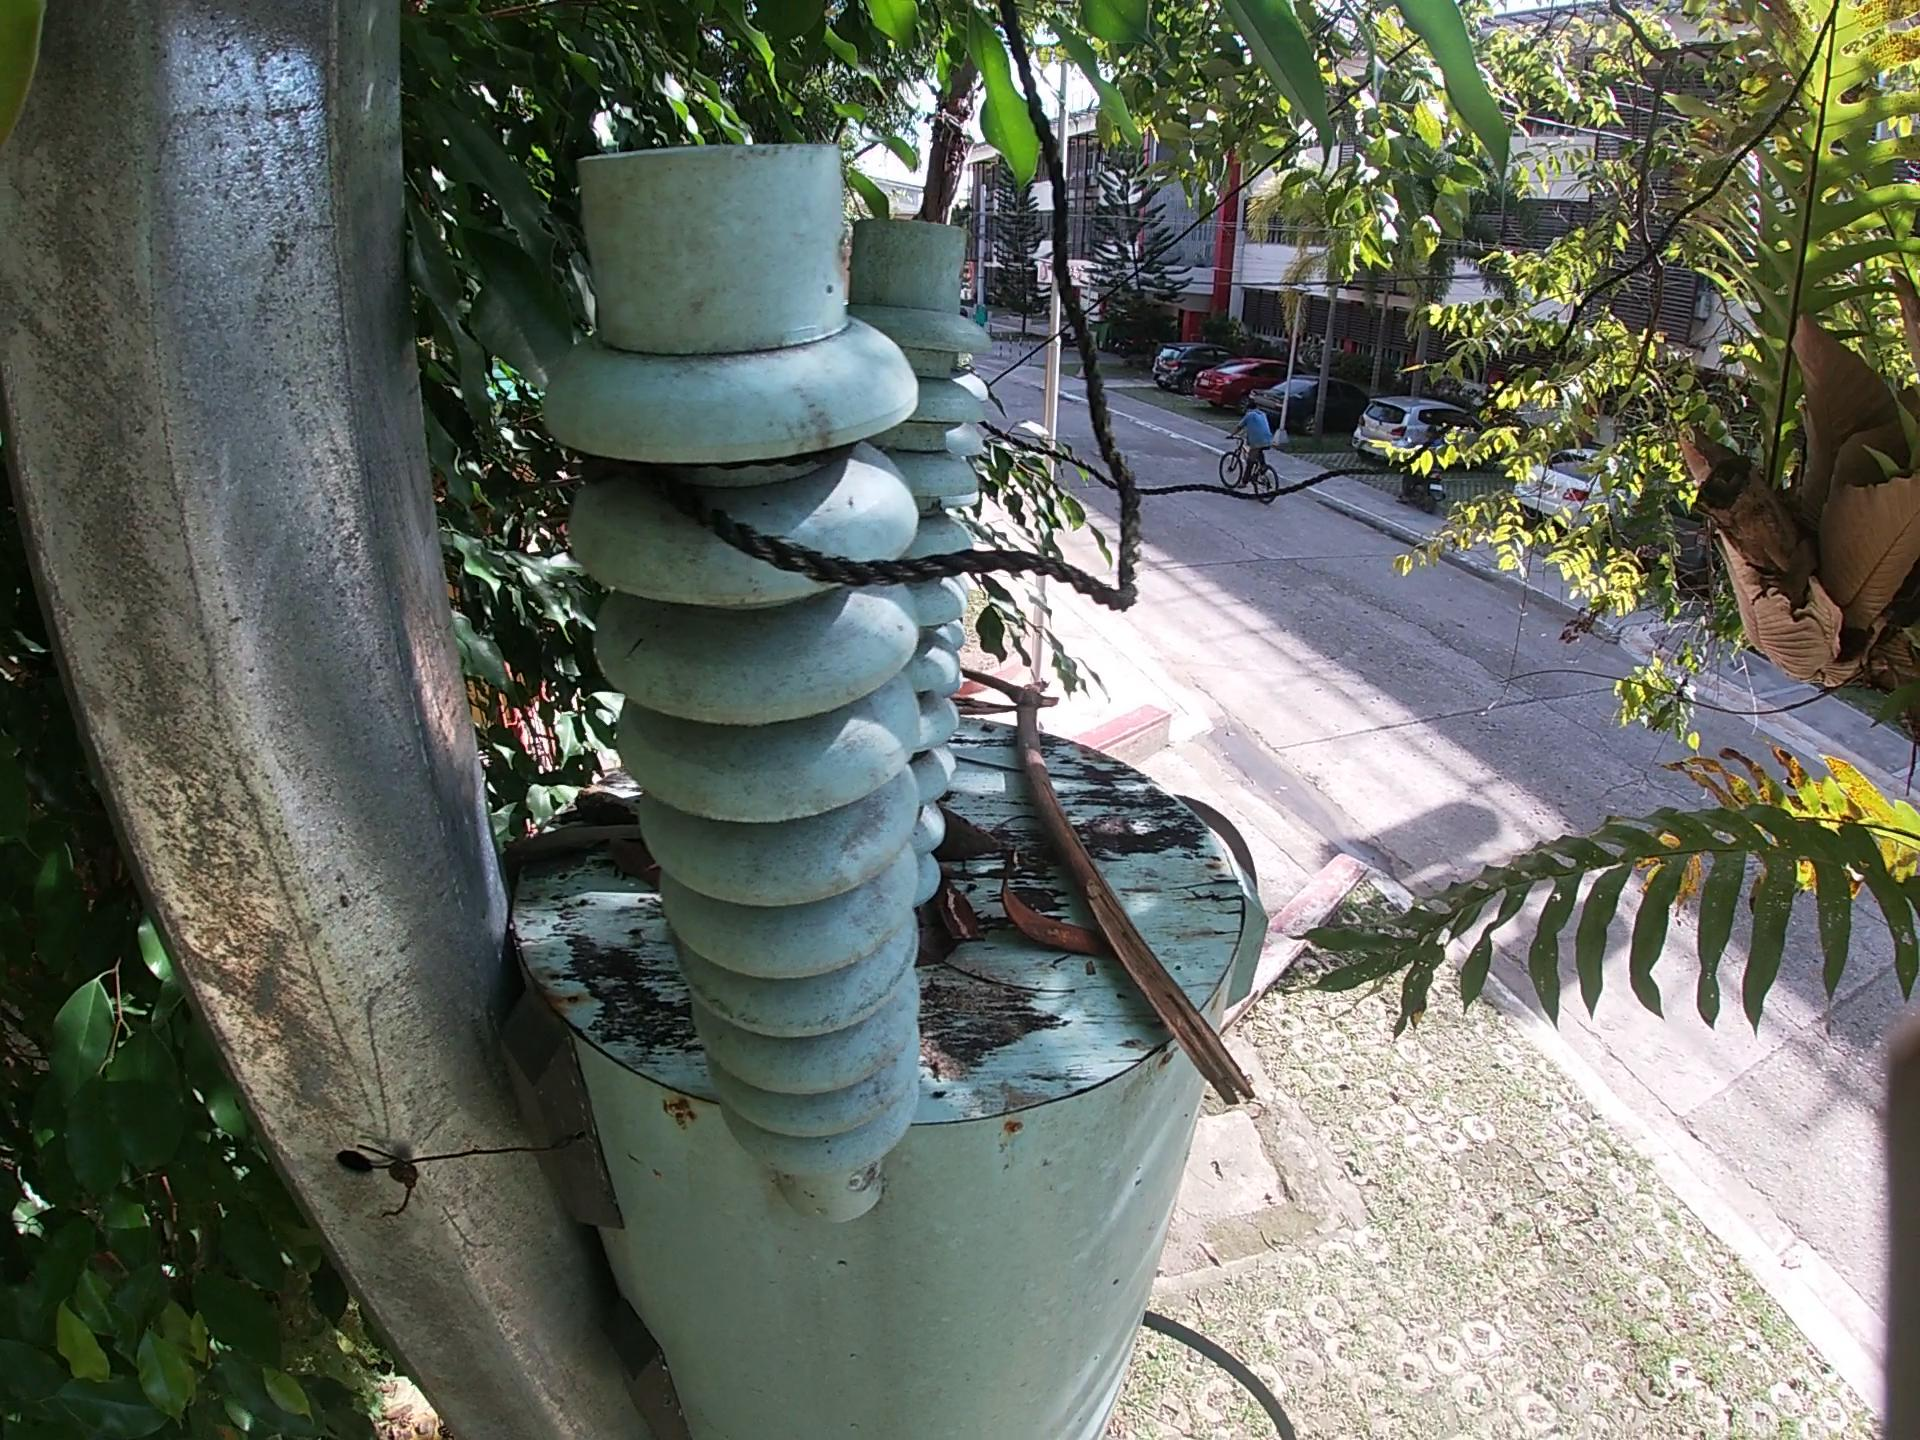mahogany fruit: (993, 859, 1092, 967), (942, 809, 1020, 864)
tree branch: (954, 663, 1262, 1109), (954, 756, 1129, 799), (568, 790, 655, 870), (509, 823, 643, 859), (934, 973, 1067, 1001), (946, 885, 996, 950), (957, 700, 1025, 722)
